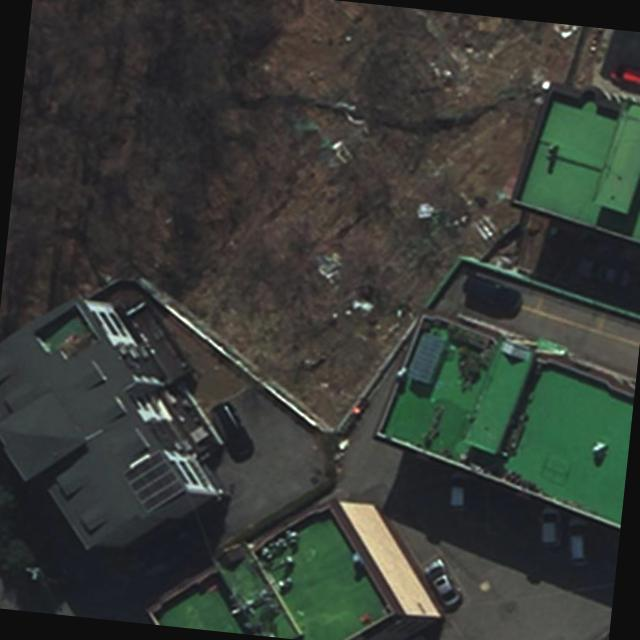solar: (116, 447, 192, 520)
